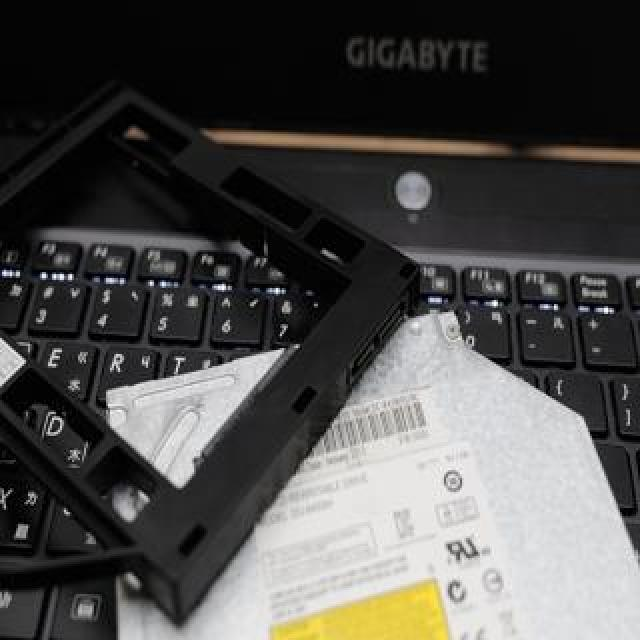laptop_computer: (0, 32, 638, 640)
